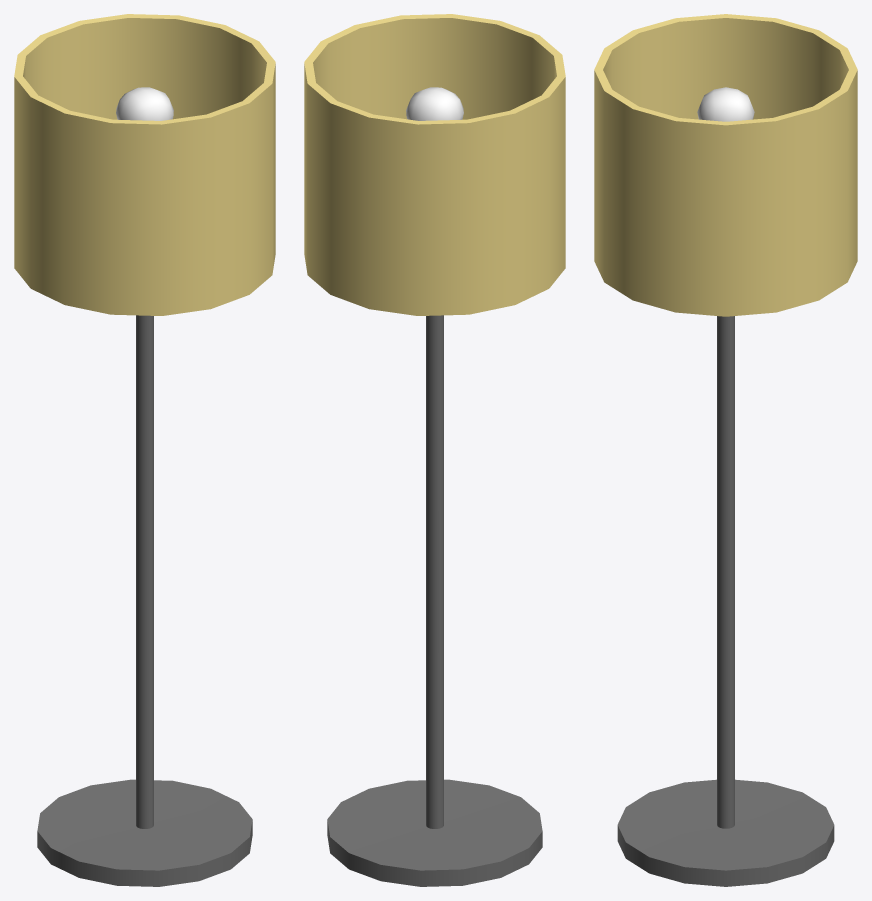
File: Lamp.fbx
3 renders of one model, left to right at view 1: azimuth 30°, elevation 25°; view 2: azimuth 150°, elevation 25°; view 3: azimuth 270°, elevation 25°, orthographic.
Parts seen in each view (by area): view 1: pCylinder4, pCube2; view 2: pCylinder4, pCube2; view 3: pCylinder4, pCube2.
Part boxes in pixels (x1,y1,x2,y2): pCylinder4: [14, 14, 275, 315]; pCube2: [37, 87, 252, 886]; pCylinder4: [304, 14, 565, 315]; pCube2: [327, 87, 542, 886]; pCylinder4: [594, 14, 857, 316]; pCube2: [617, 87, 834, 886].
Bounding box in the file's own units: 3.65 × 11.78 × 3.65.
2 materials, 1 textured.
